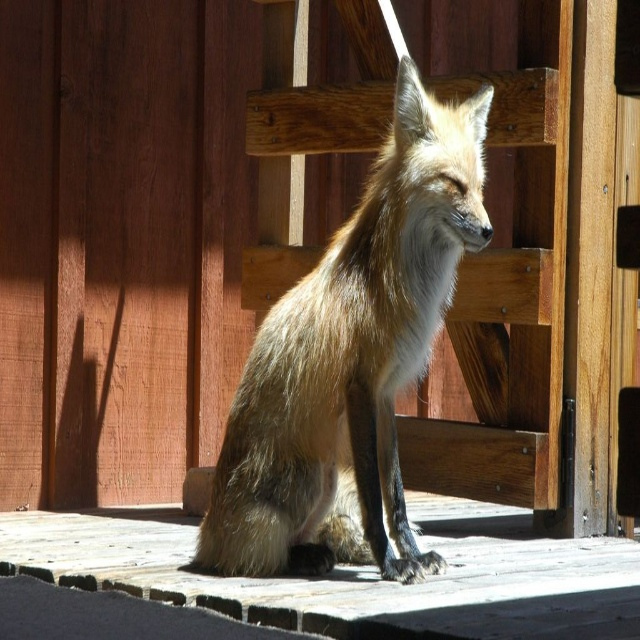Fox: (189, 54, 495, 588)
